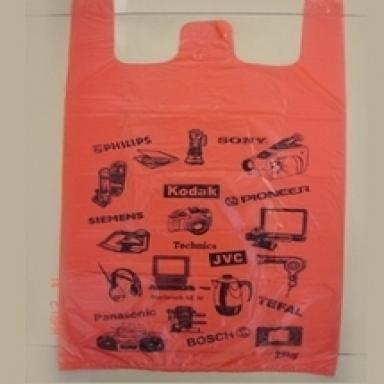plasticbag: (50, 0, 361, 380)
